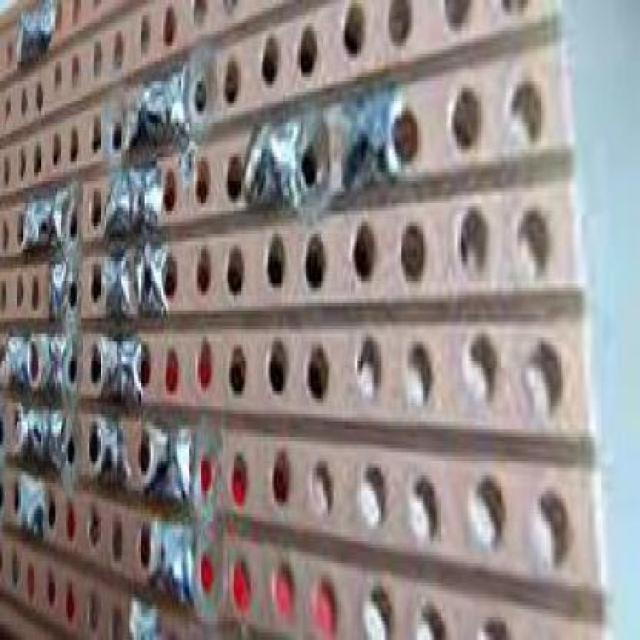Soldering shorted: (98, 248, 170, 322), (100, 161, 162, 234)
